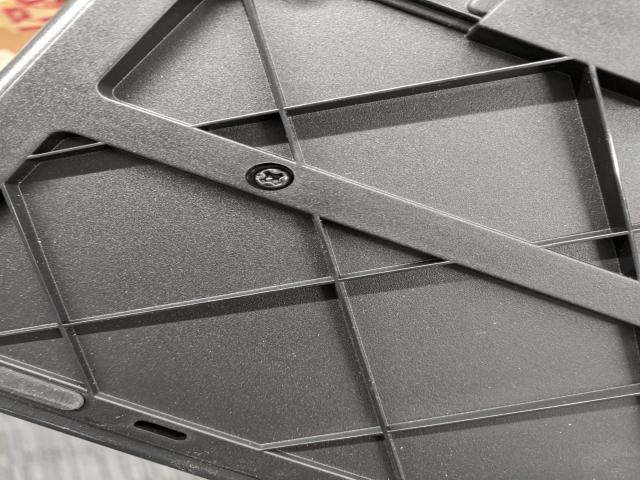CRS: (251, 166, 293, 189)
